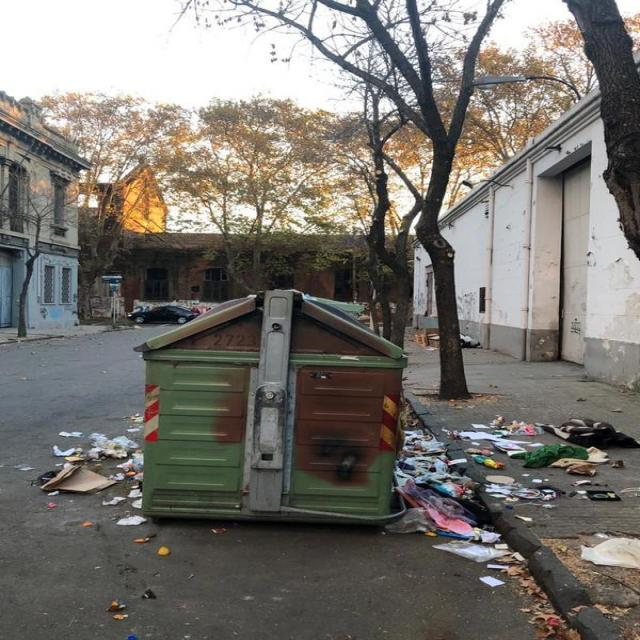garbage: (15, 398, 148, 530), (392, 424, 510, 566), (488, 408, 618, 524), (576, 531, 640, 572)
